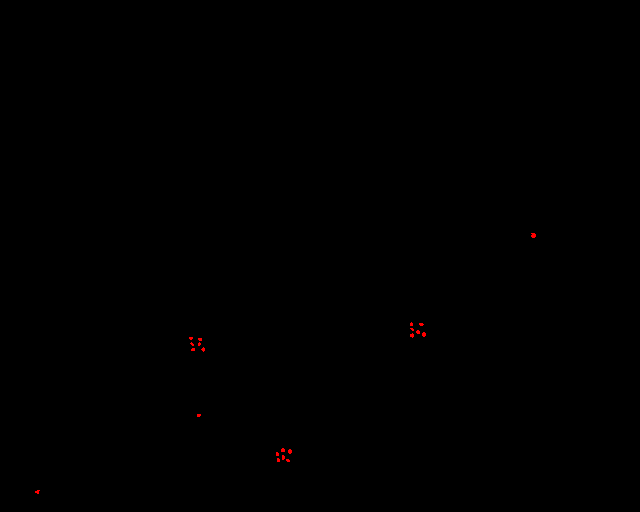Target: (531, 233, 536, 238), (422, 332, 426, 337), (410, 333, 414, 338), (201, 347, 205, 352), (288, 449, 292, 454), (35, 490, 40, 494), (416, 330, 420, 334), (190, 342, 194, 346), (281, 448, 285, 452), (419, 323, 424, 326), (282, 455, 285, 460), (410, 322, 413, 326), (410, 328, 414, 331), (189, 337, 193, 340), (198, 338, 202, 341), (198, 342, 201, 346), (191, 348, 195, 351), (197, 414, 201, 417), (276, 452, 279, 456), (277, 458, 280, 462), (286, 459, 290, 462)
